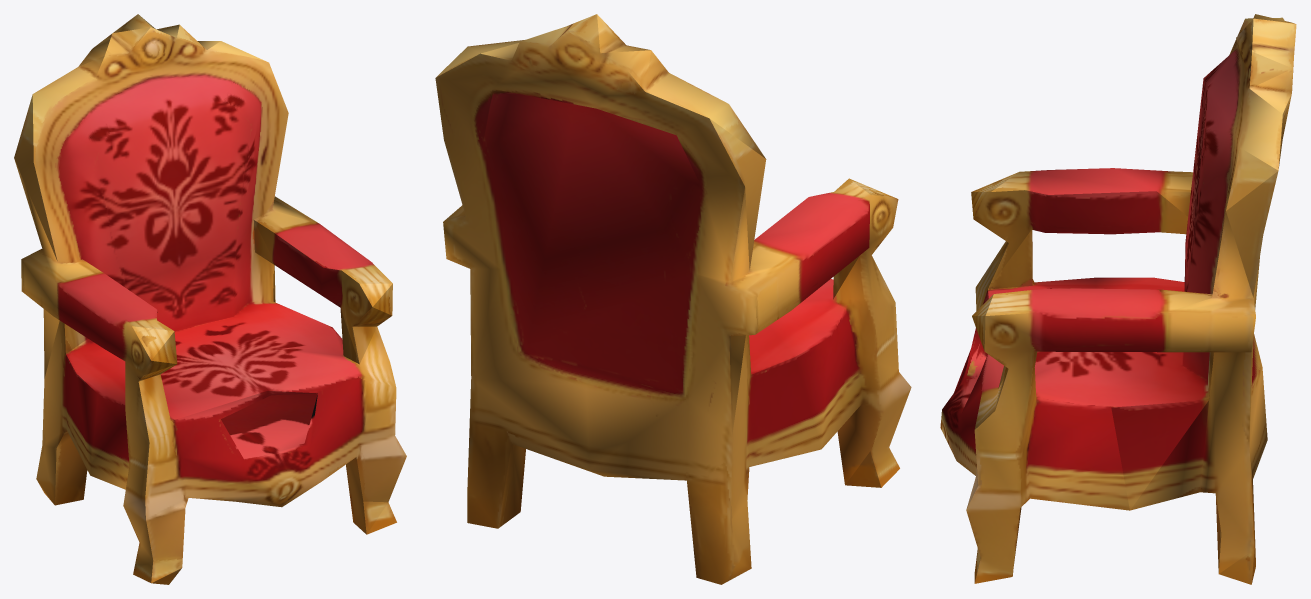
The model's file is gilded-armchair.glb.
3 renders of one model, left to right at view 1: azimuth 30°, elevation 25°; view 2: azimuth 150°, elevation 25°; view 3: azimuth 270°, elevation 25°, orthographic. The views are drawn at different scales.
Parts seen in each view (by area): view 1: geometry_0.001; view 2: geometry_0.001; view 3: geometry_0.001.
Part boxes in pixels (x1=…): geometry_0.001: x1=14, y1=14, x2=406, y2=584; geometry_0.001: x1=435, y1=14, x2=911, y2=584; geometry_0.001: x1=940, y1=14, x2=1296, y2=584.
Bounding box in the file's own units: 0.6285 × 0.9999 × 0.6362.
1 material, 1 textured.
